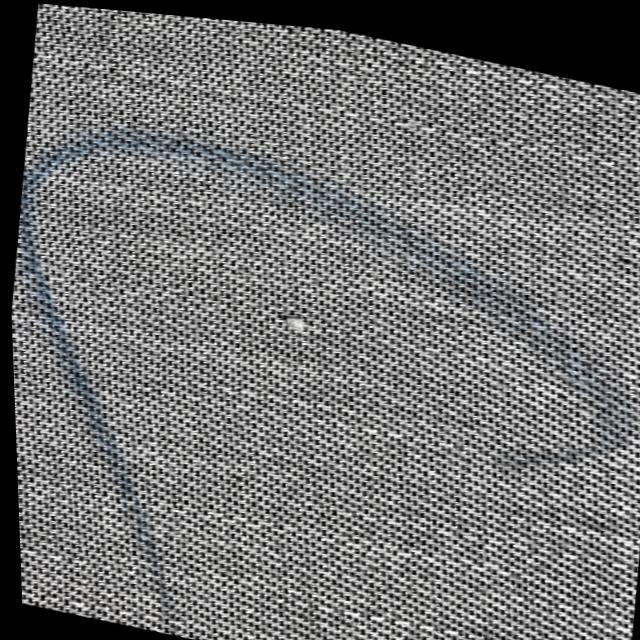Hole: (279, 311, 300, 322)
